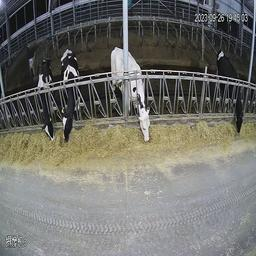cow: (107, 45, 150, 143), (215, 45, 245, 133), (60, 49, 81, 143), (36, 60, 55, 141)
